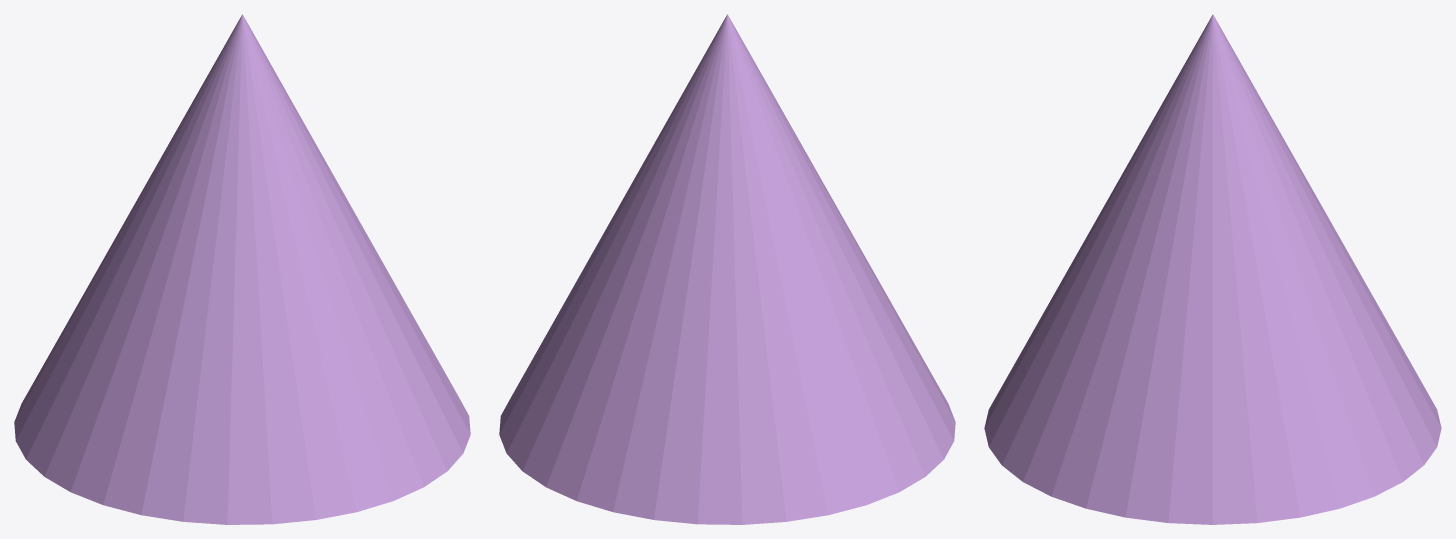
3 views of the same model, side by side, from view 1: azimuth 30°, elevation 25°; view 2: azimuth 150°, elevation 25°; view 3: azimuth 270°, elevation 25° (orthographic).
Parts seen in each view (by area): view 1: Cone; view 2: Cone; view 3: Cone.
Part boxes in pixels (bbox=[...]): Cone: bbox=[14, 14, 470, 524]; Cone: bbox=[499, 14, 955, 524]; Cone: bbox=[984, 14, 1441, 524].
Bounding box in the file's own units: 0.5 × 0.5 × 0.5.
